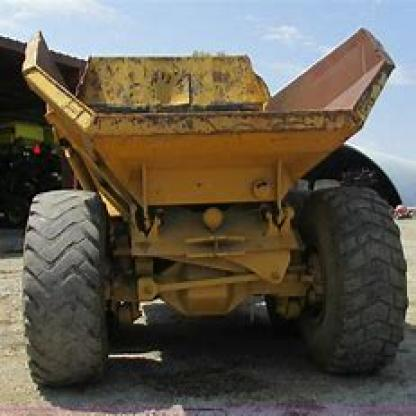dump_truck: (9, 22, 405, 379)
